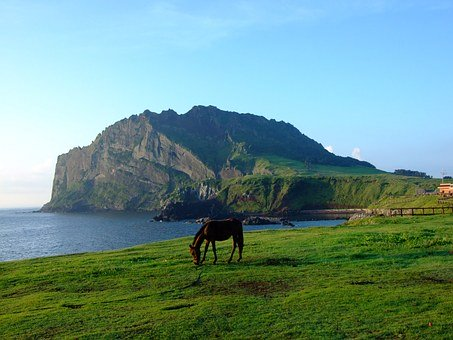field: (18, 231, 441, 340)
mountain: (69, 100, 436, 218)
